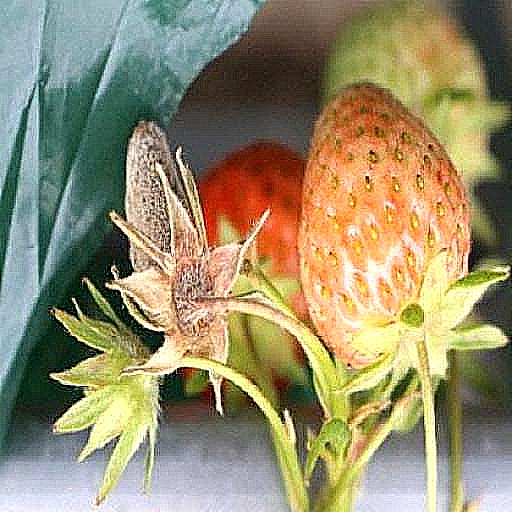Gray Mold: (243, 97, 409, 393)
